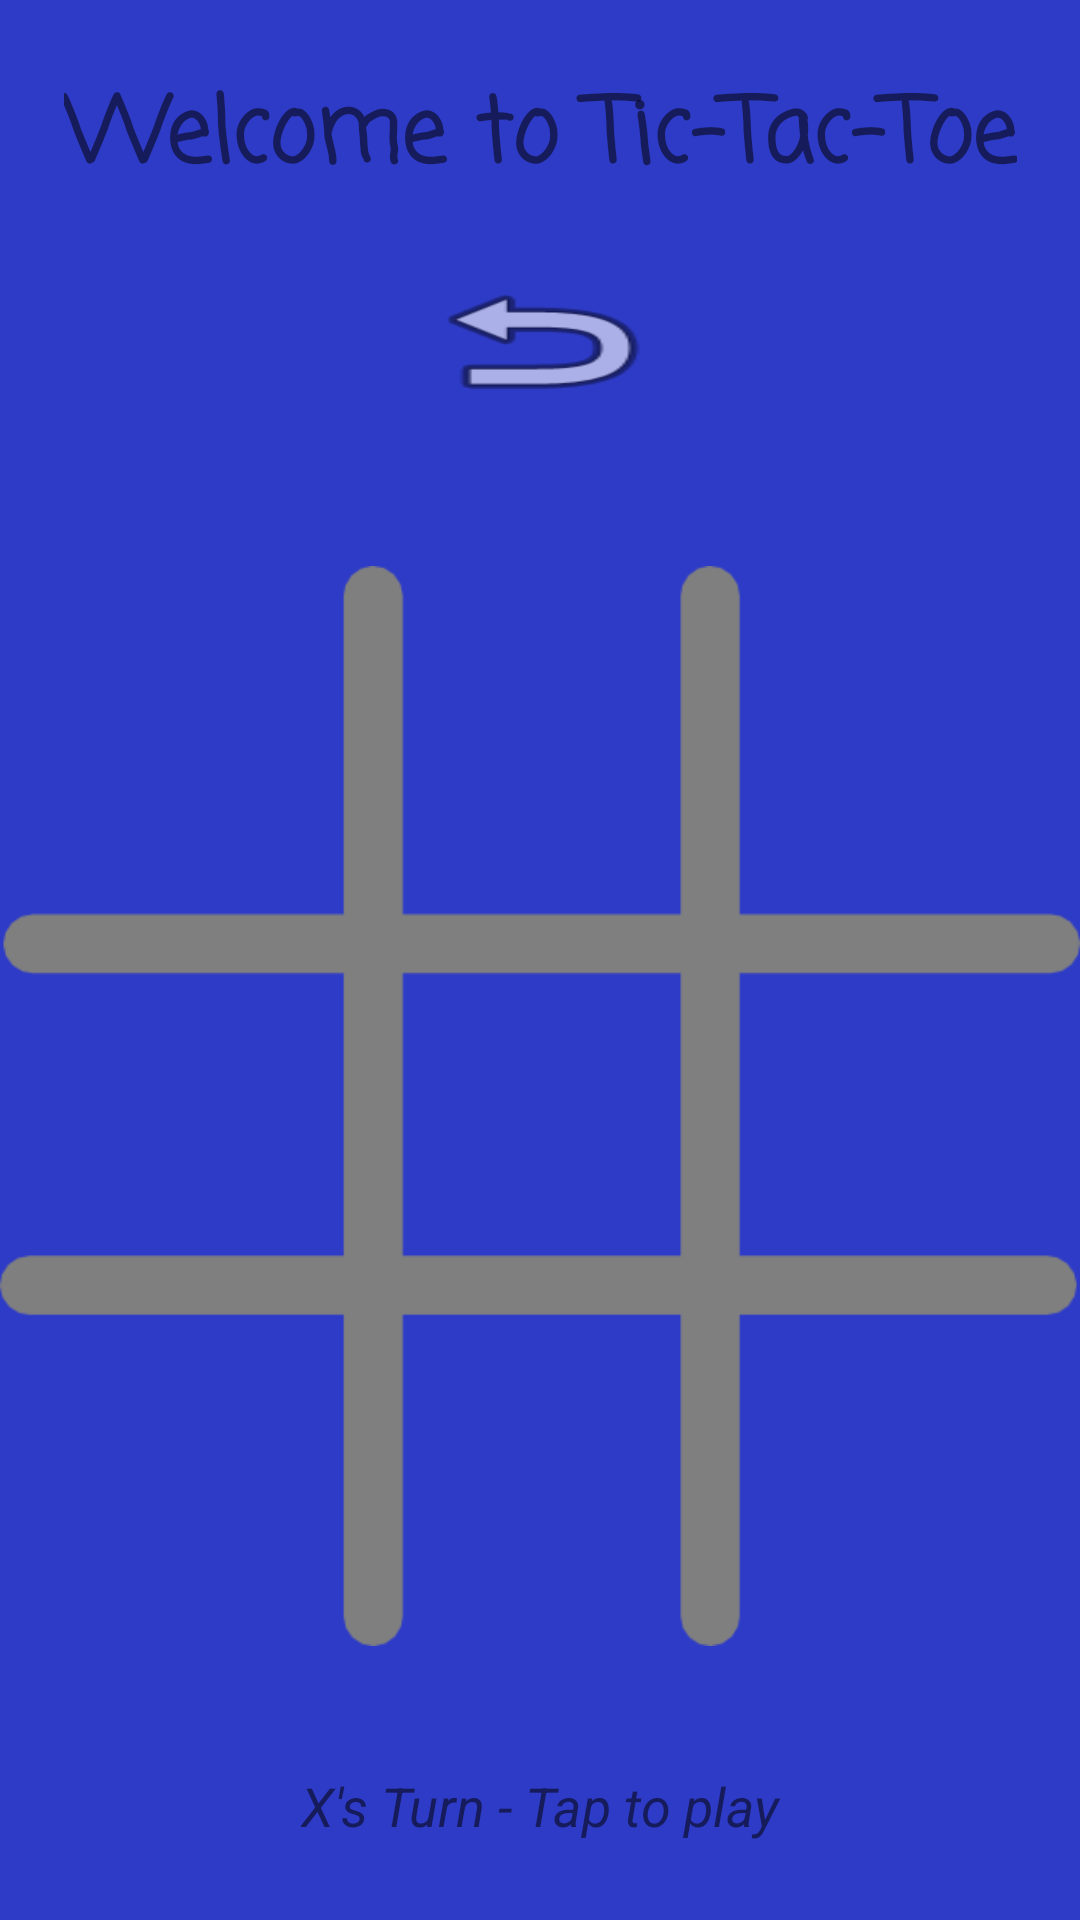

Icons on this 1080px x 1920px Android screen, each with its box as (x1, y1, x2, y2):
revert: (448, 295, 639, 389)
